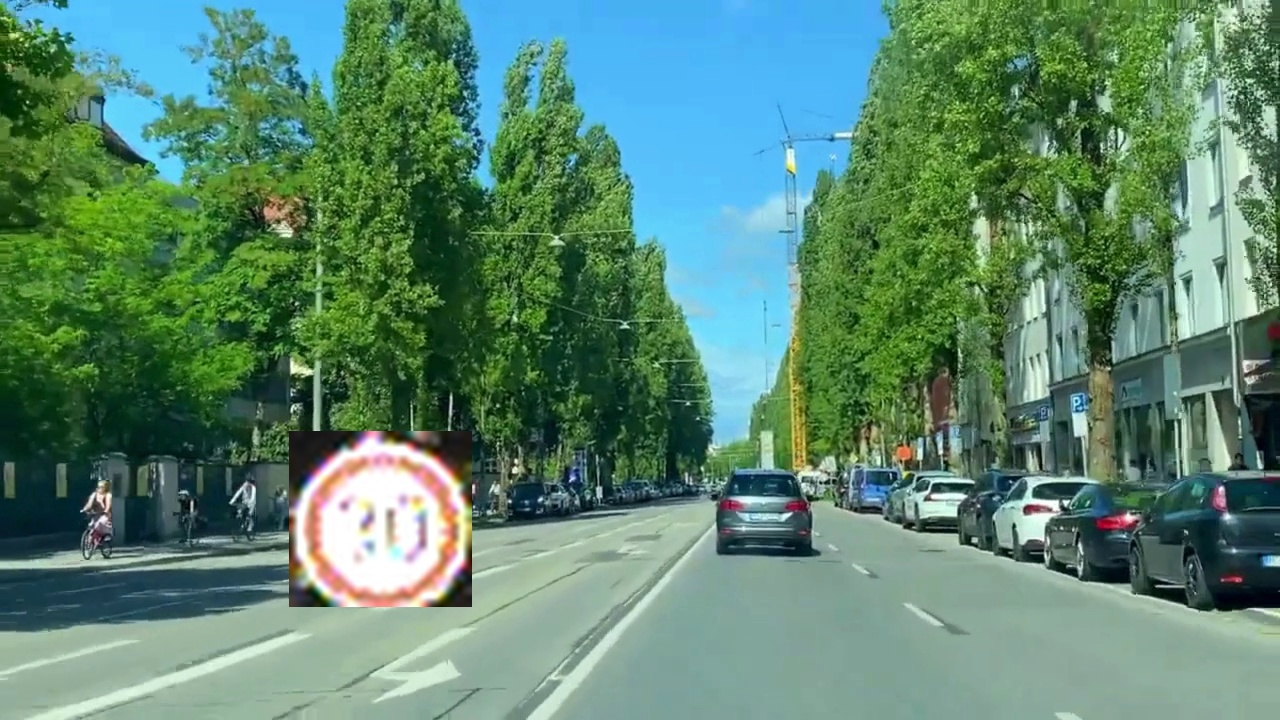Speed 30: (289, 431, 472, 607)
